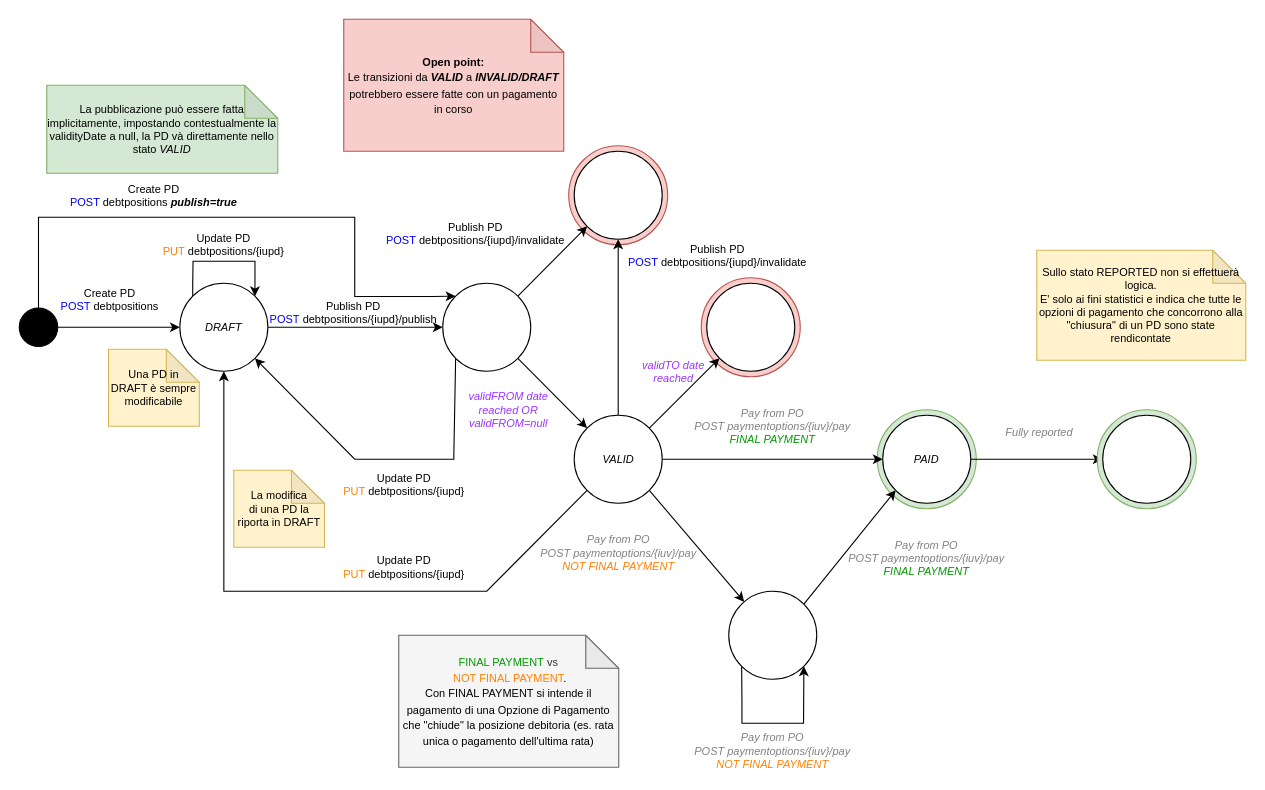
The diagram is 1265 pixels wide and 790 high, and some of its shapes have lost their labels. Here are the shapes that lost their labels. From the top down, the box of each, then its label:
(573, 150, 662, 239): INVALID
(442, 282, 531, 371): PUBLISHED
(706, 282, 795, 371): EXPIRED
(1102, 414, 1191, 503): REPORTED
(728, 590, 817, 679): PARTIALLY_ PAID
